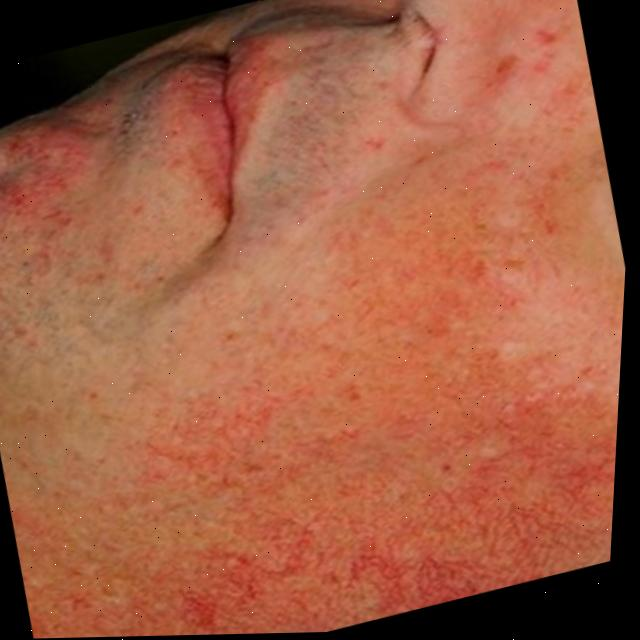Rosacea: (70, 157, 631, 638), (484, 30, 575, 122), (0, 152, 71, 239)
